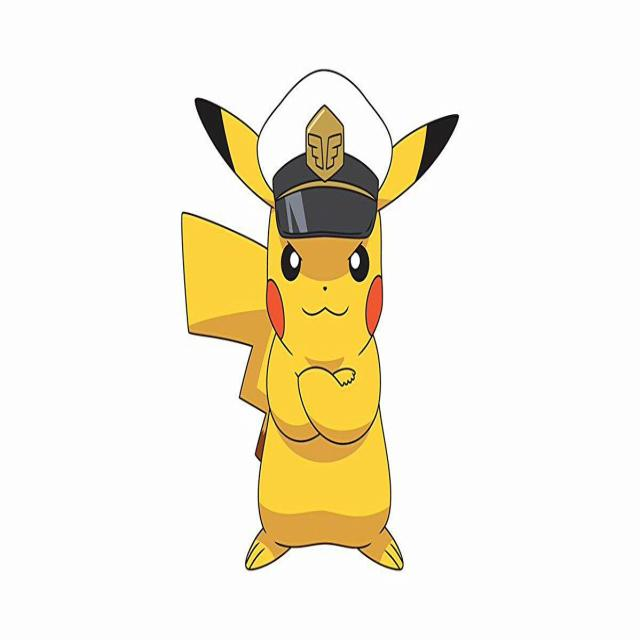Pikachu: (148, 3, 511, 640)
